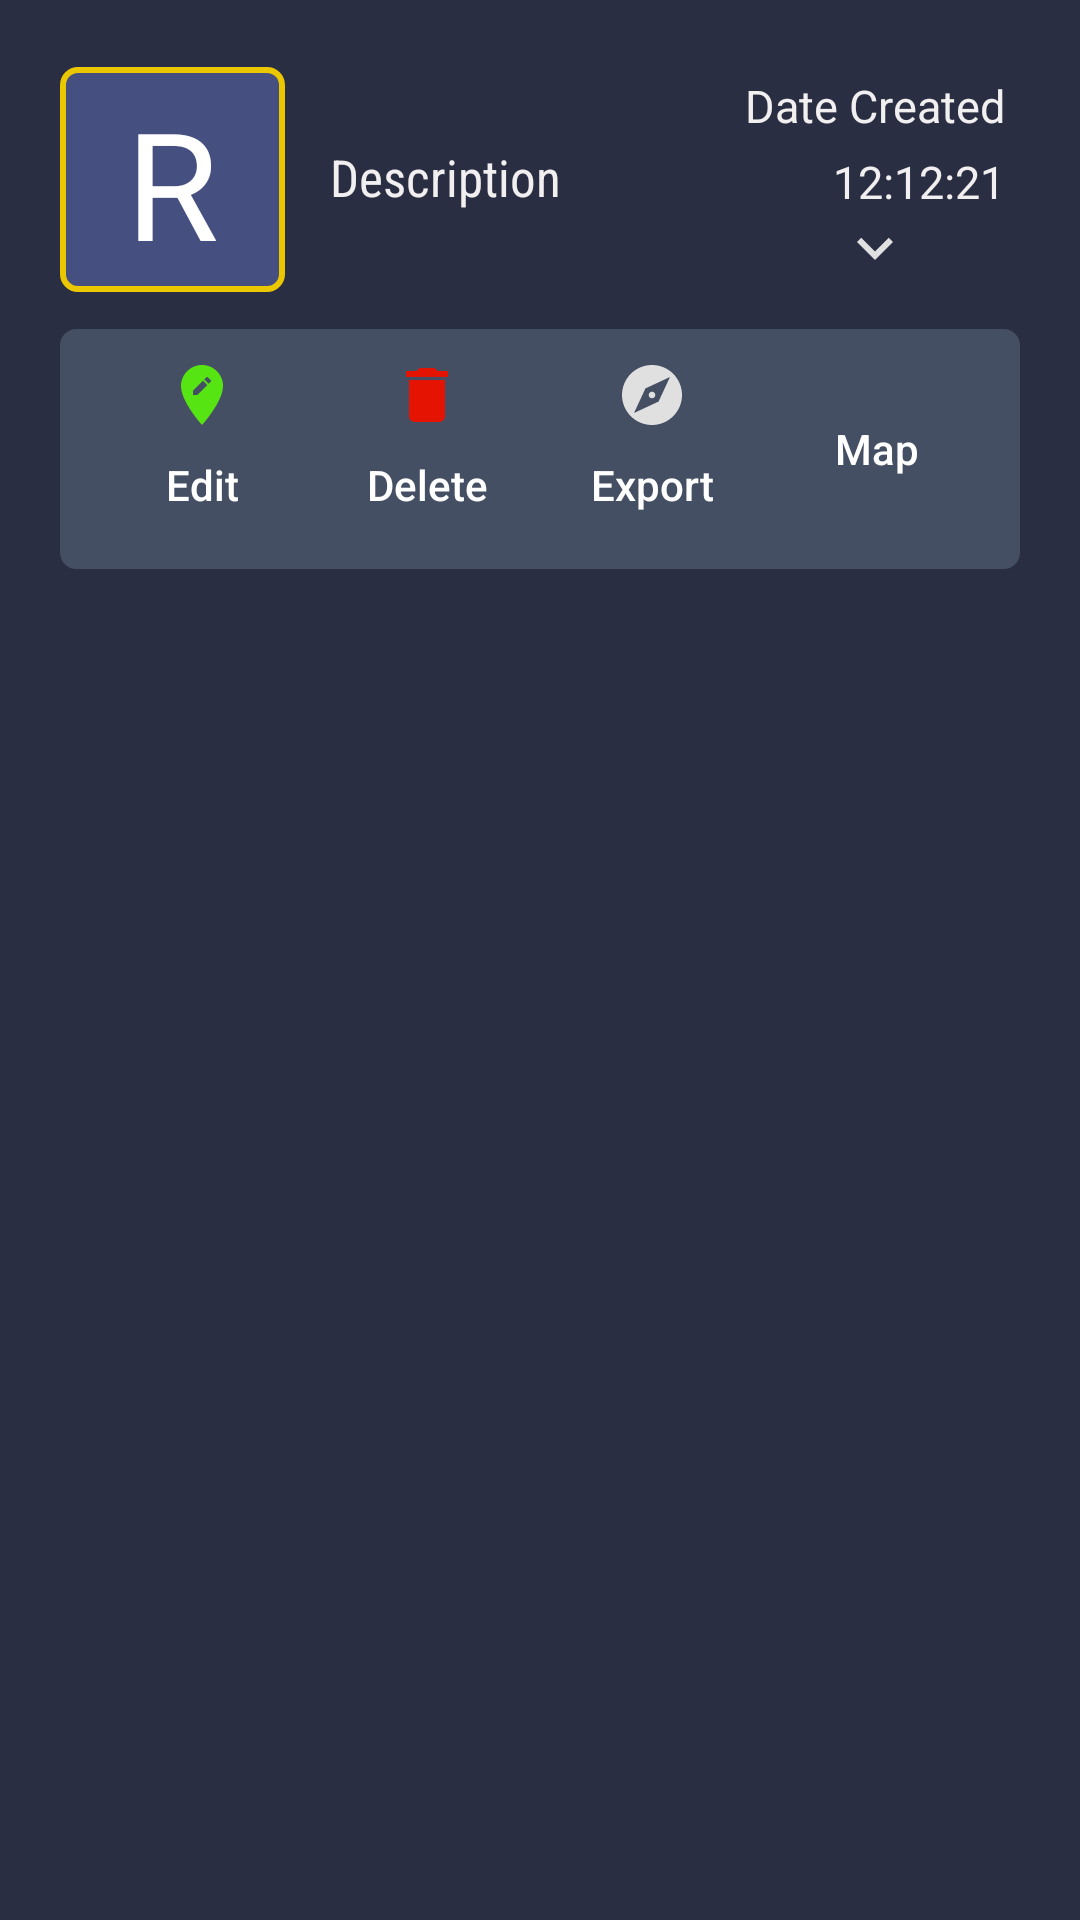

Screen size 1080px×1920px. Icon name, then its center in pixels as point (x, y):
expandabledown: point (875, 249)
